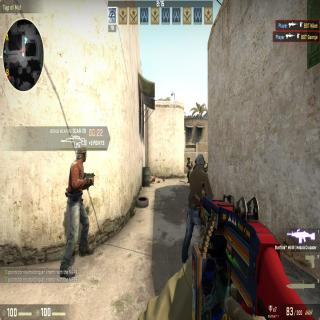T-Body: (64, 145, 91, 270), (184, 152, 207, 258)
T-Head: (74, 143, 88, 165), (194, 154, 206, 172)
